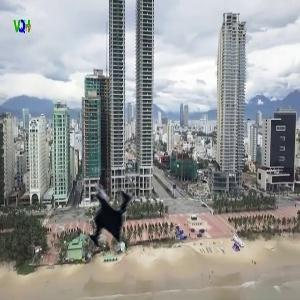drone: (57, 168, 157, 268)
